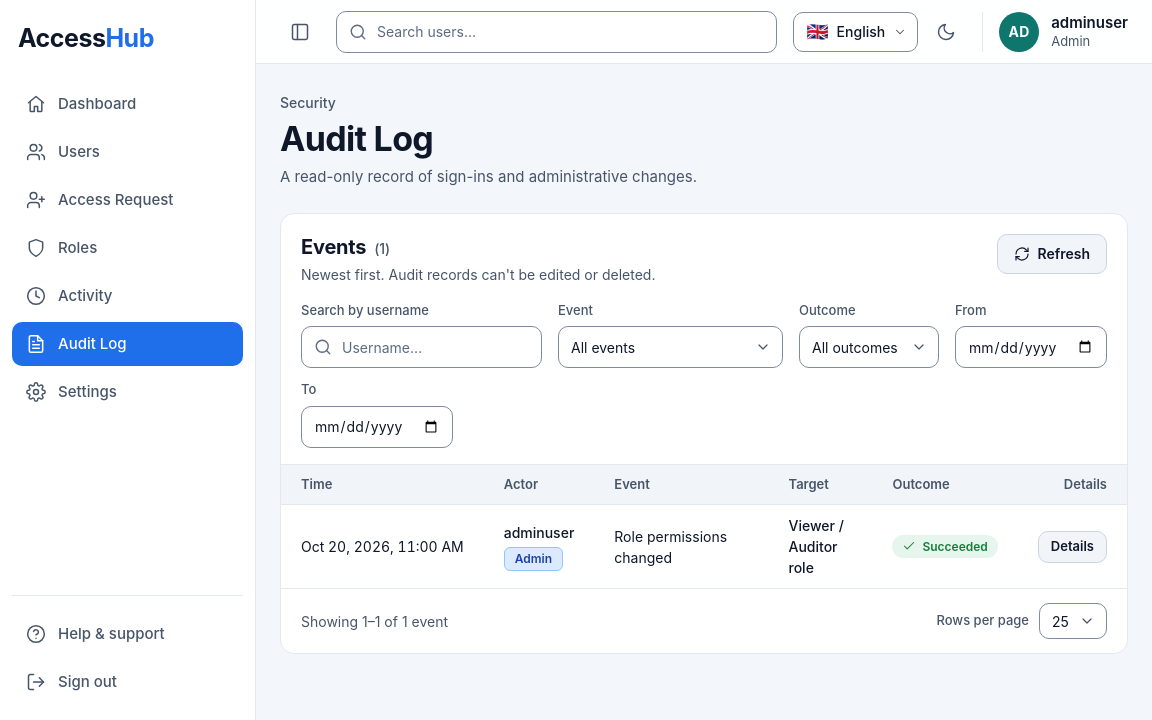
Test case: Audit Log contents › describes role permission changes in plain language
Expected: the text "Viewer / Auditor role" is shown, [788, 517, 844, 576]
Click the button with aria-label "View details for event 40": {"x": 1072, "y": 547} [1038, 531, 1107, 563]
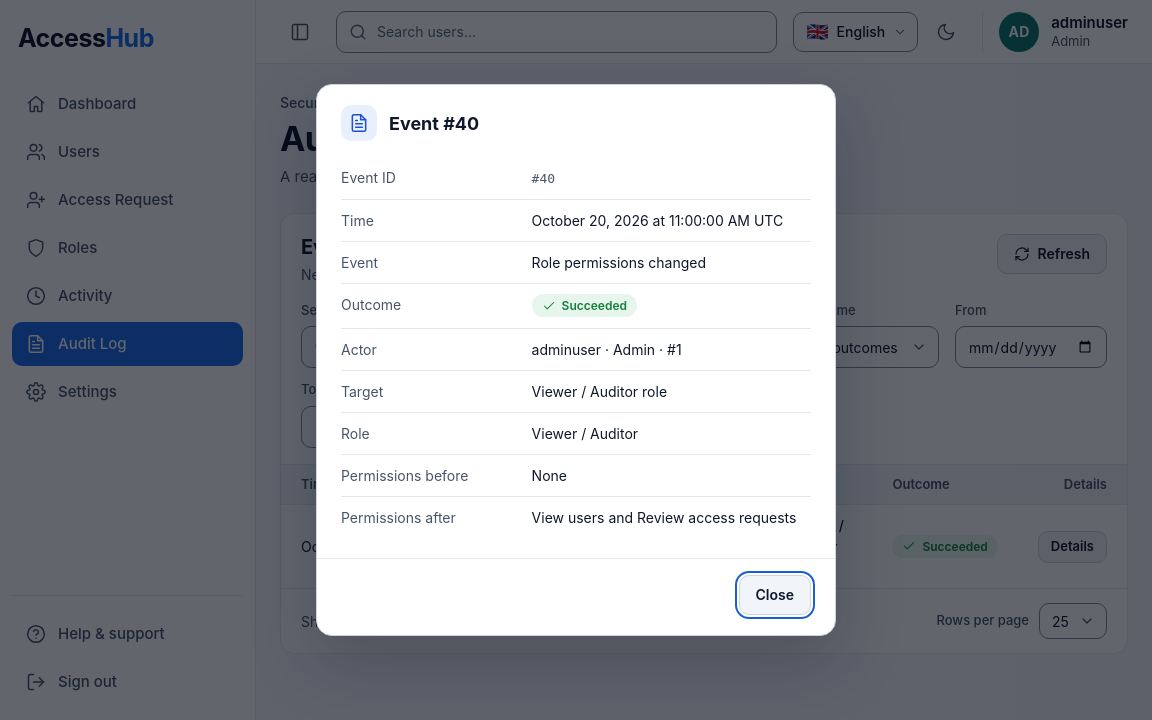
Expected: the text "Viewer / Auditor role" in the row of "Oct 20, 2026, 11:00 AM" is shown, [788, 517, 844, 576]
Expected: the text "None" is shown, [532, 466, 567, 484]
Expected: the text "View users and Review access requests" is shown, [532, 506, 811, 528]
